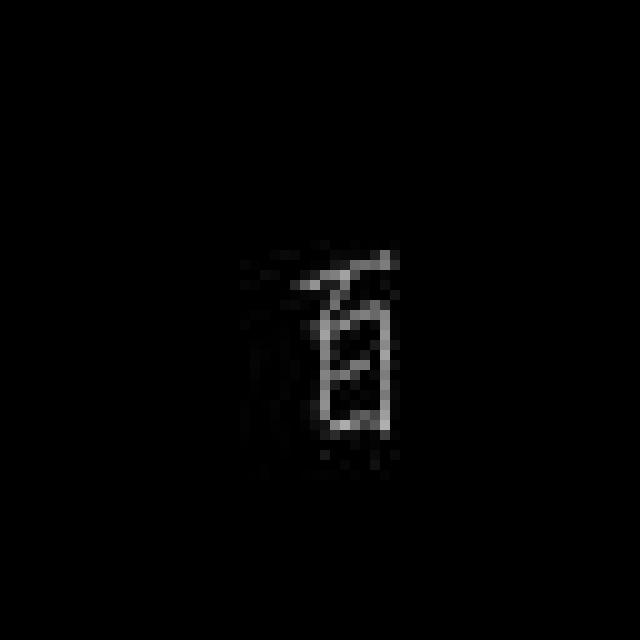100 -a hundred-: (284, 240, 400, 433)
